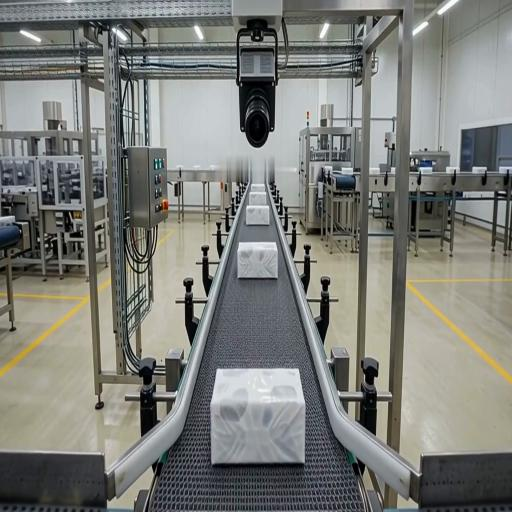good: (210, 367, 304, 465), (237, 241, 279, 279), (246, 204, 270, 226), (247, 191, 268, 207), (250, 183, 265, 191)
